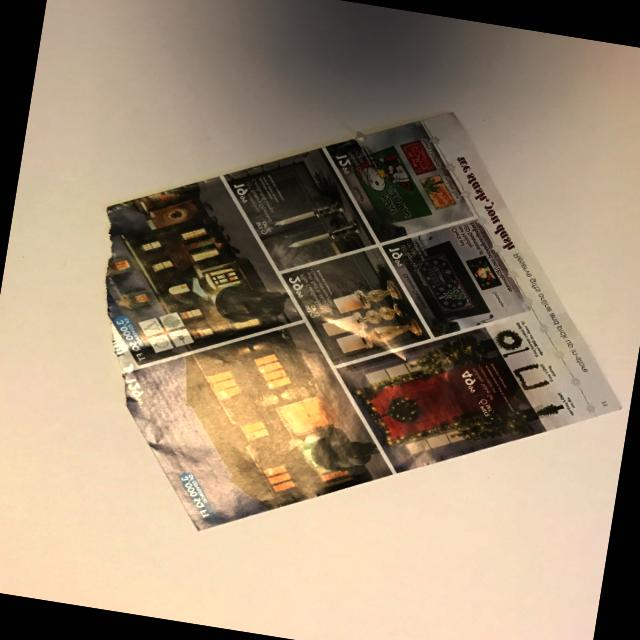Paper: (41, 55, 640, 606)
